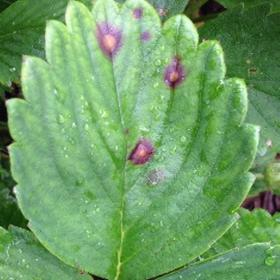Leaf Spot: (4, 0, 261, 279)
